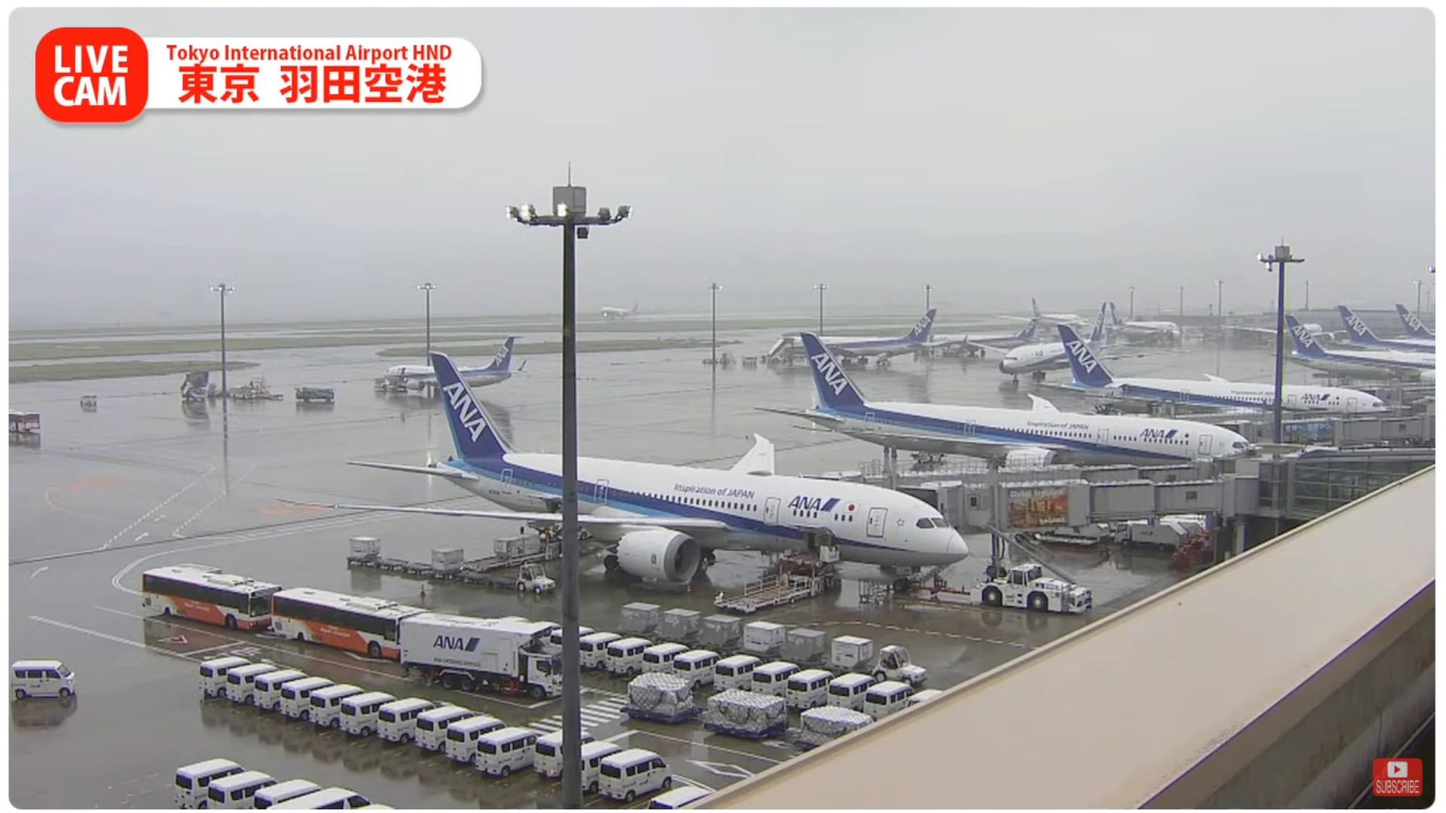APS: (968, 562, 1094, 614)
Aerobridge: (892, 474, 1261, 535), (796, 455, 1210, 487)
Airplane: (270, 351, 970, 592)
Catering: (399, 612, 565, 698)
Dolly: (613, 617, 873, 675), (346, 551, 516, 588)
JCPL: (711, 554, 833, 609), (451, 522, 563, 573)
Tractor: (873, 645, 926, 687), (515, 563, 556, 594)
Window: (1292, 458, 1433, 516)
